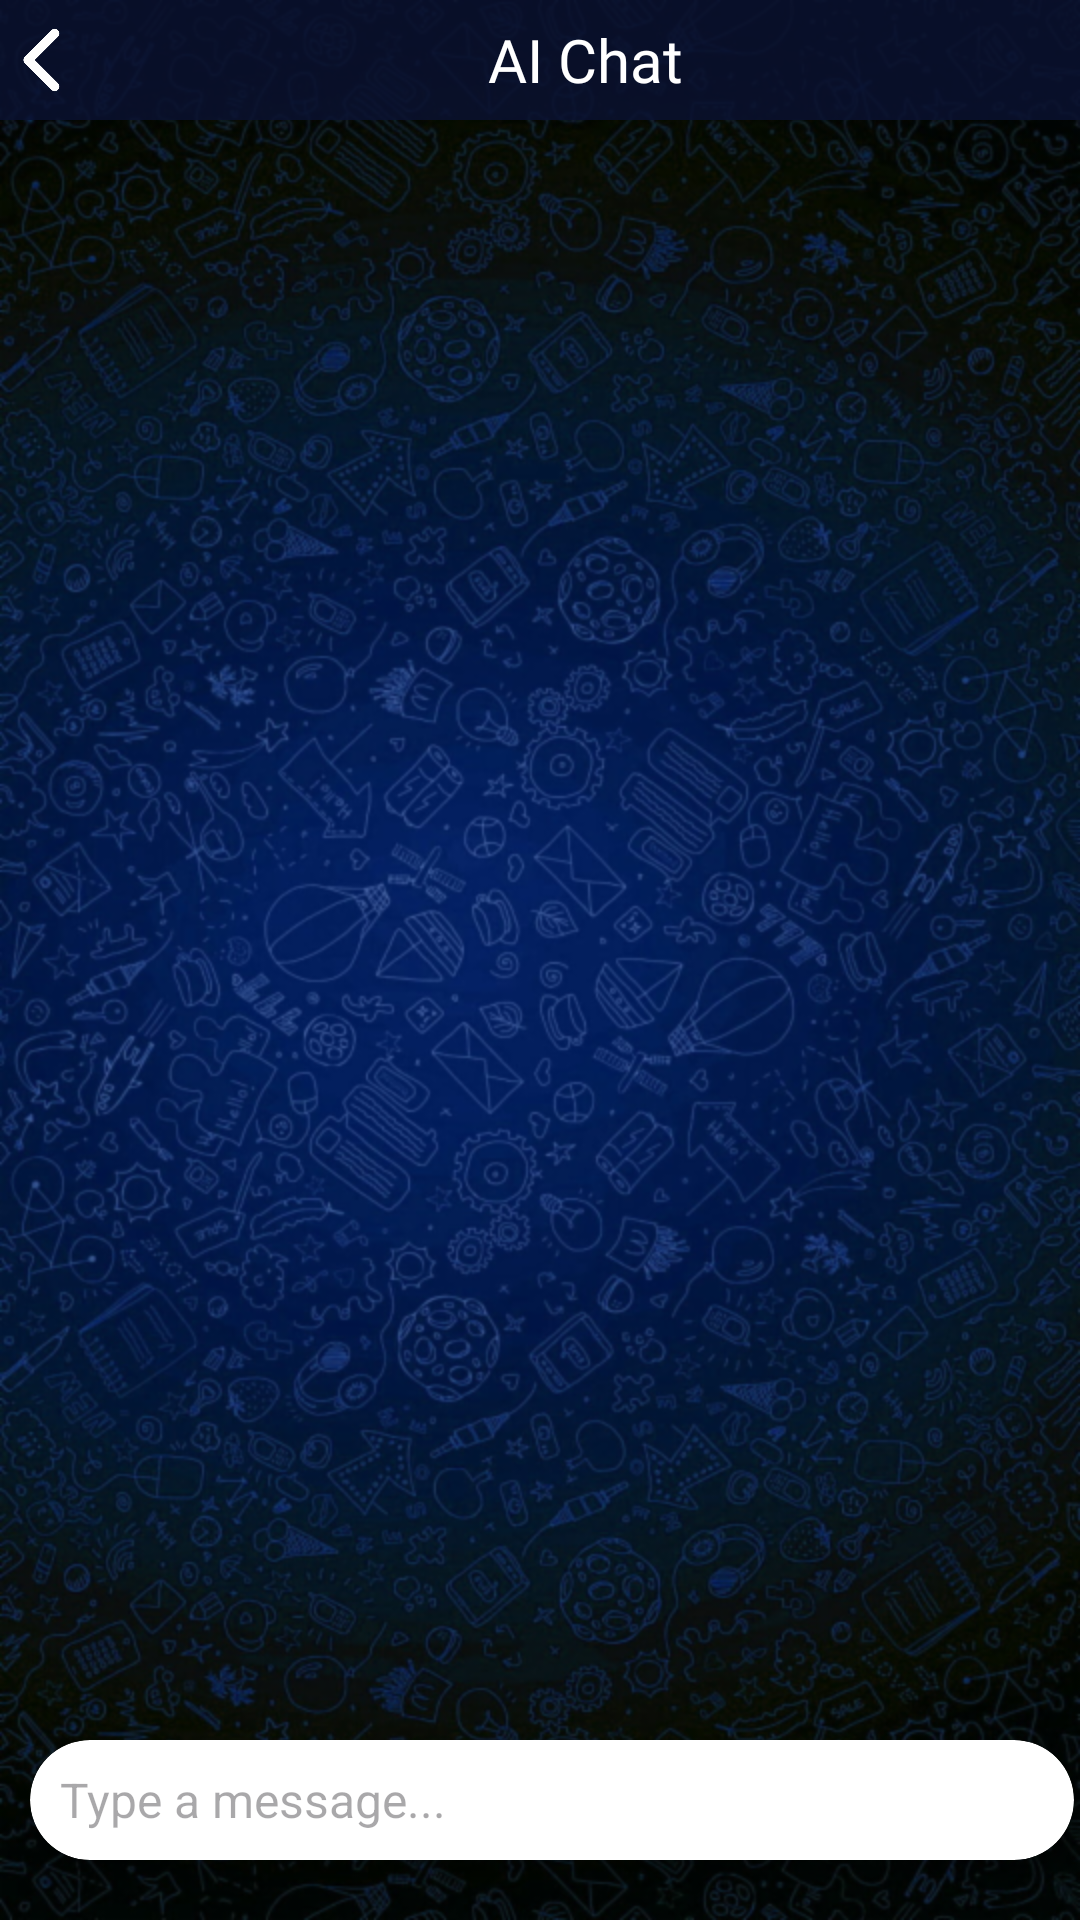

Named icons in this screenshot (1080*1920) and their centers, point (x, y):
back: point (41, 60)
